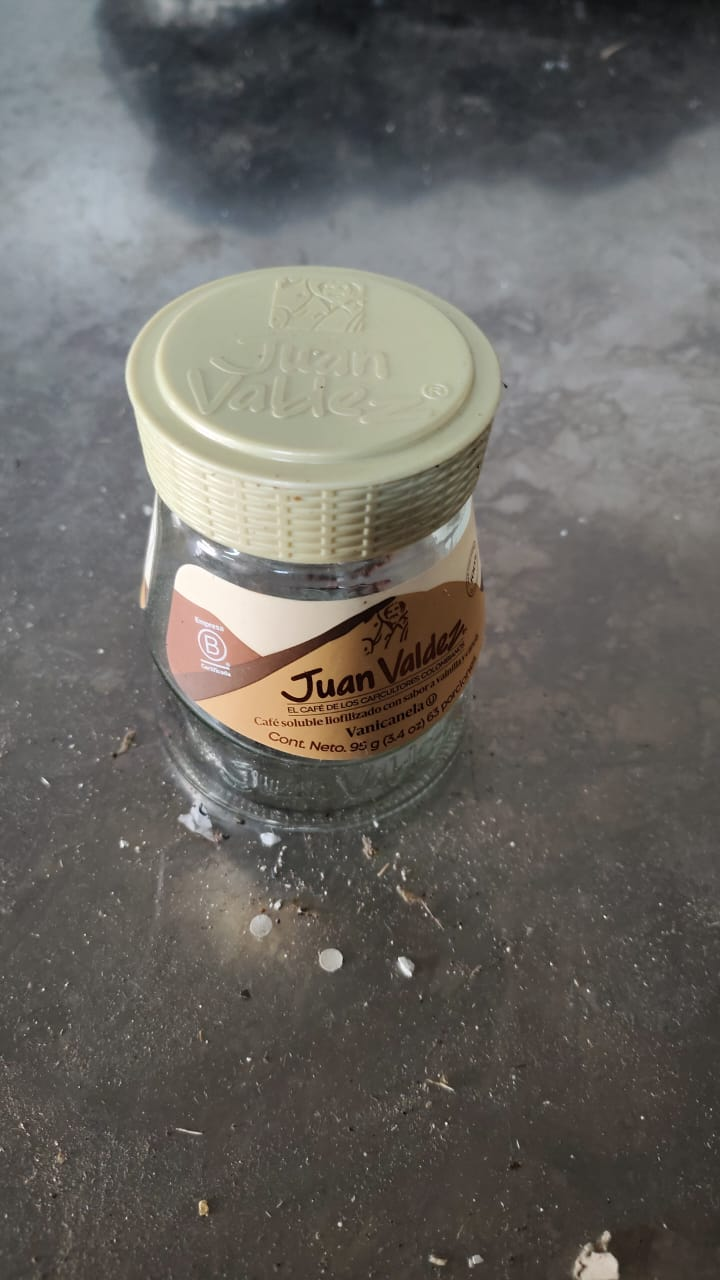Plastico: (125, 264, 503, 559)
Vidrio: (136, 562, 489, 830)
